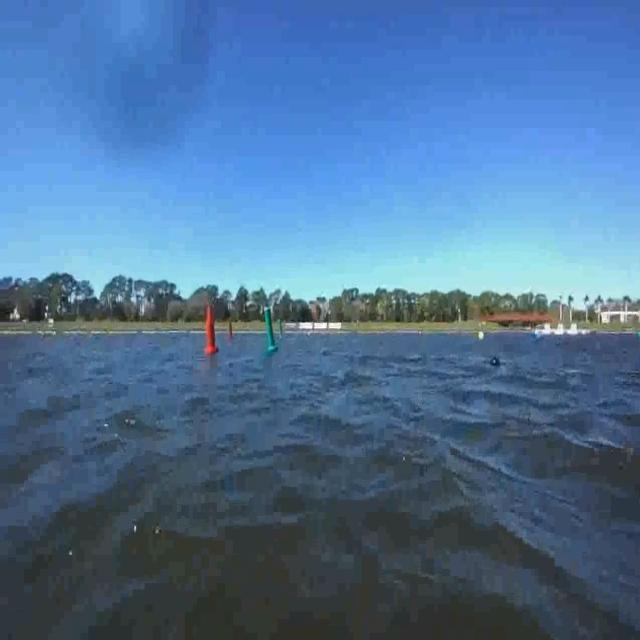black-buoy: (490, 352, 503, 371)
green-column-buoy: (264, 308, 280, 354), (278, 319, 283, 337)
red-column-buoy: (202, 304, 220, 354), (228, 323, 234, 342)
yellow-buoy: (478, 328, 486, 341)
